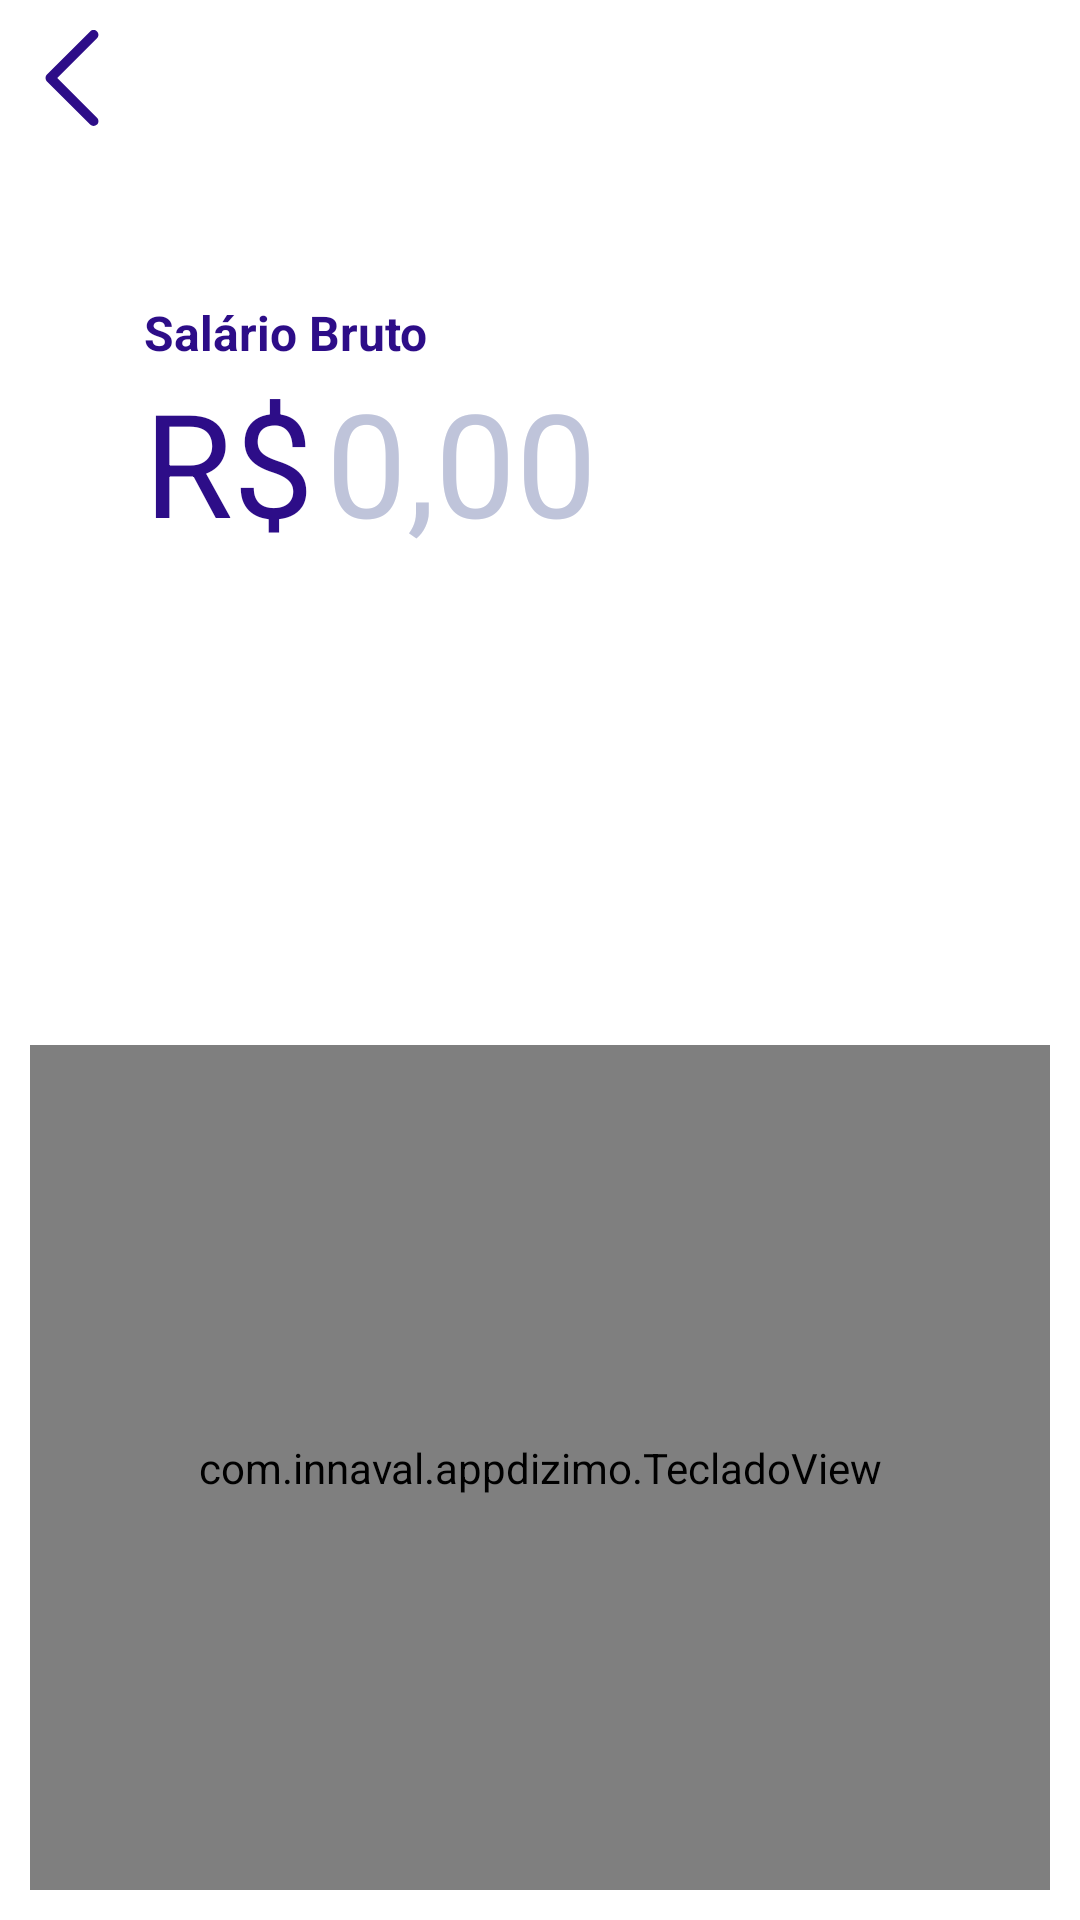

Icons on this 1080w x 1920h Android screen, each with its box as [x1=x1, y1=y1, x2=x2, y2=y2]:
back: [x1=45, y1=30, x2=99, y2=126]
